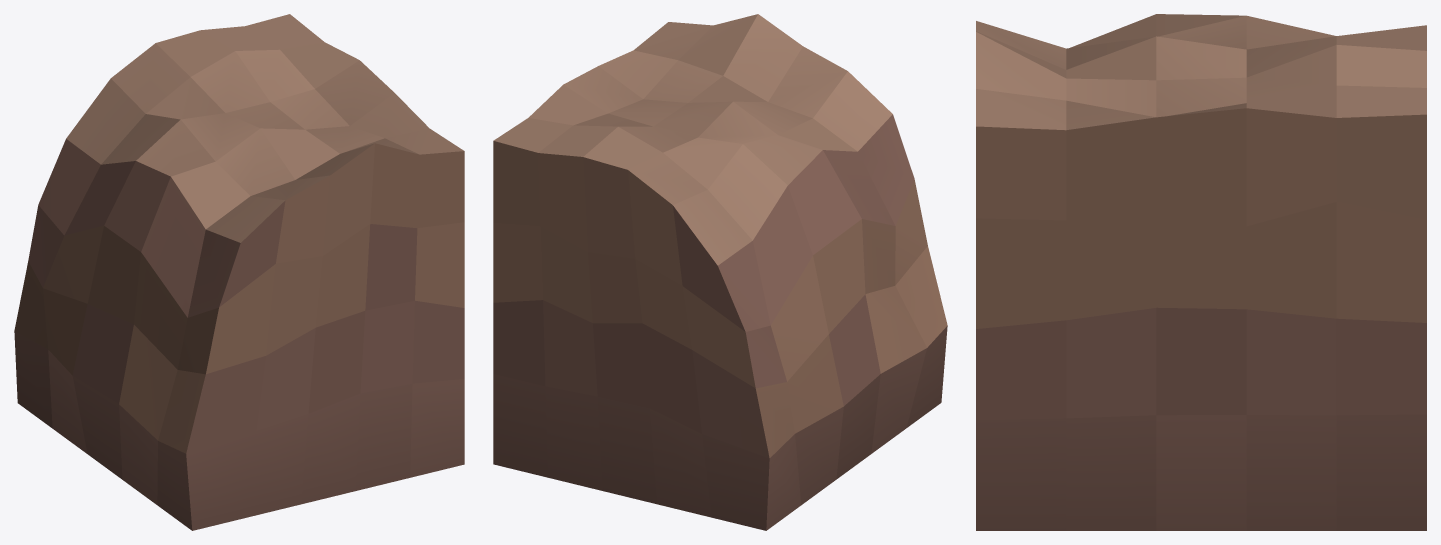
Rendered from roca_te.glb.
The picture shows the model from 3 angles, left to right: view 1: azimuth 30°, elevation 25°; view 2: azimuth 150°, elevation 25°; view 3: azimuth 270°, elevation 25°; orthographic projection. The views are drawn at different scales.
Parts seen in each view (by area): view 1: propforge-cuartos-roca_te; view 2: propforge-cuartos-roca_te; view 3: propforge-cuartos-roca_te.
Boxes of the visible parts, x1=… form: propforge-cuartos-roca_te: x1=14, y1=14, x2=464, y2=530; propforge-cuartos-roca_te: x1=493, y1=14, x2=947, y2=530; propforge-cuartos-roca_te: x1=976, y1=14, x2=1426, y2=530.
Size of the model in its own units: 0.937 by 1.08 by 1.
